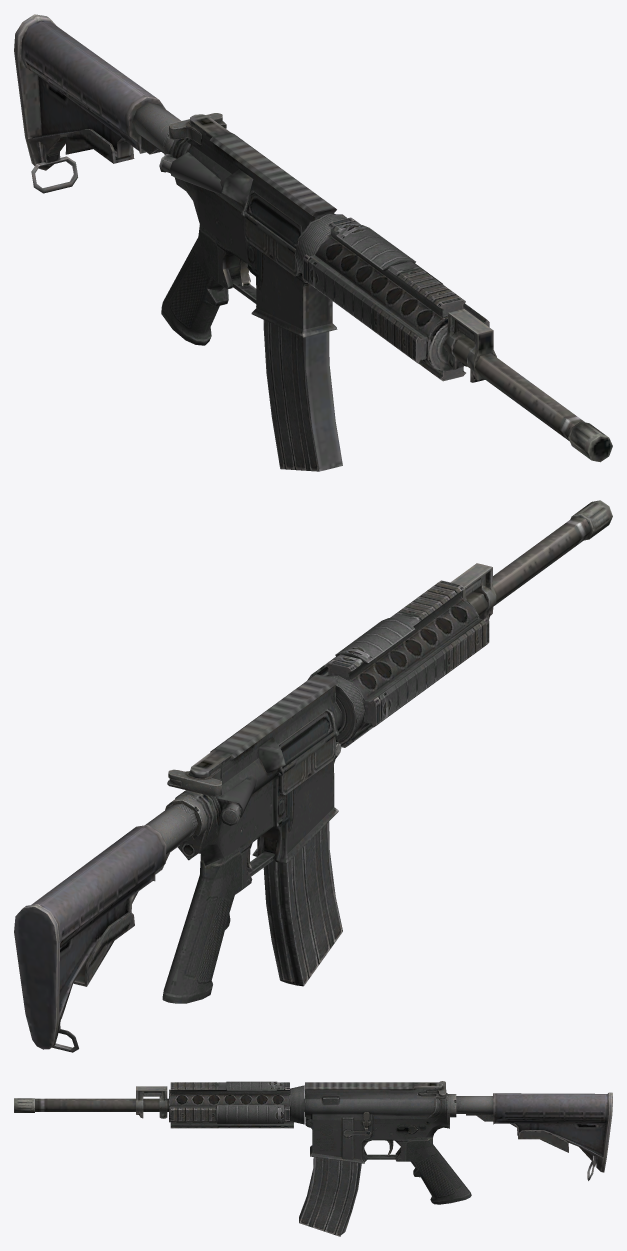
File: Assault_Rifle_bq_01_Body_Main_(000419).glb
3 views of the same model, one above another, from view 1: azimuth 30°, elevation 25°; view 2: azimuth 150°, elevation 25°; view 3: azimuth 270°, elevation 25° (orthographic). The views are drawn at different scales.
Visible parts, largest first — view 1: bq_01; view 2: bq_01; view 3: bq_01.
Part boxes in pixels (box(x1,y1,x2,y2)): bq_01: box(14, 14, 612, 471); bq_01: box(14, 500, 612, 1052); bq_01: box(14, 1081, 612, 1236).
Bounding box in the file's own units: 0.132 × 0.4419 × 1.59.
Materials: 1 (1 with a texture image).
